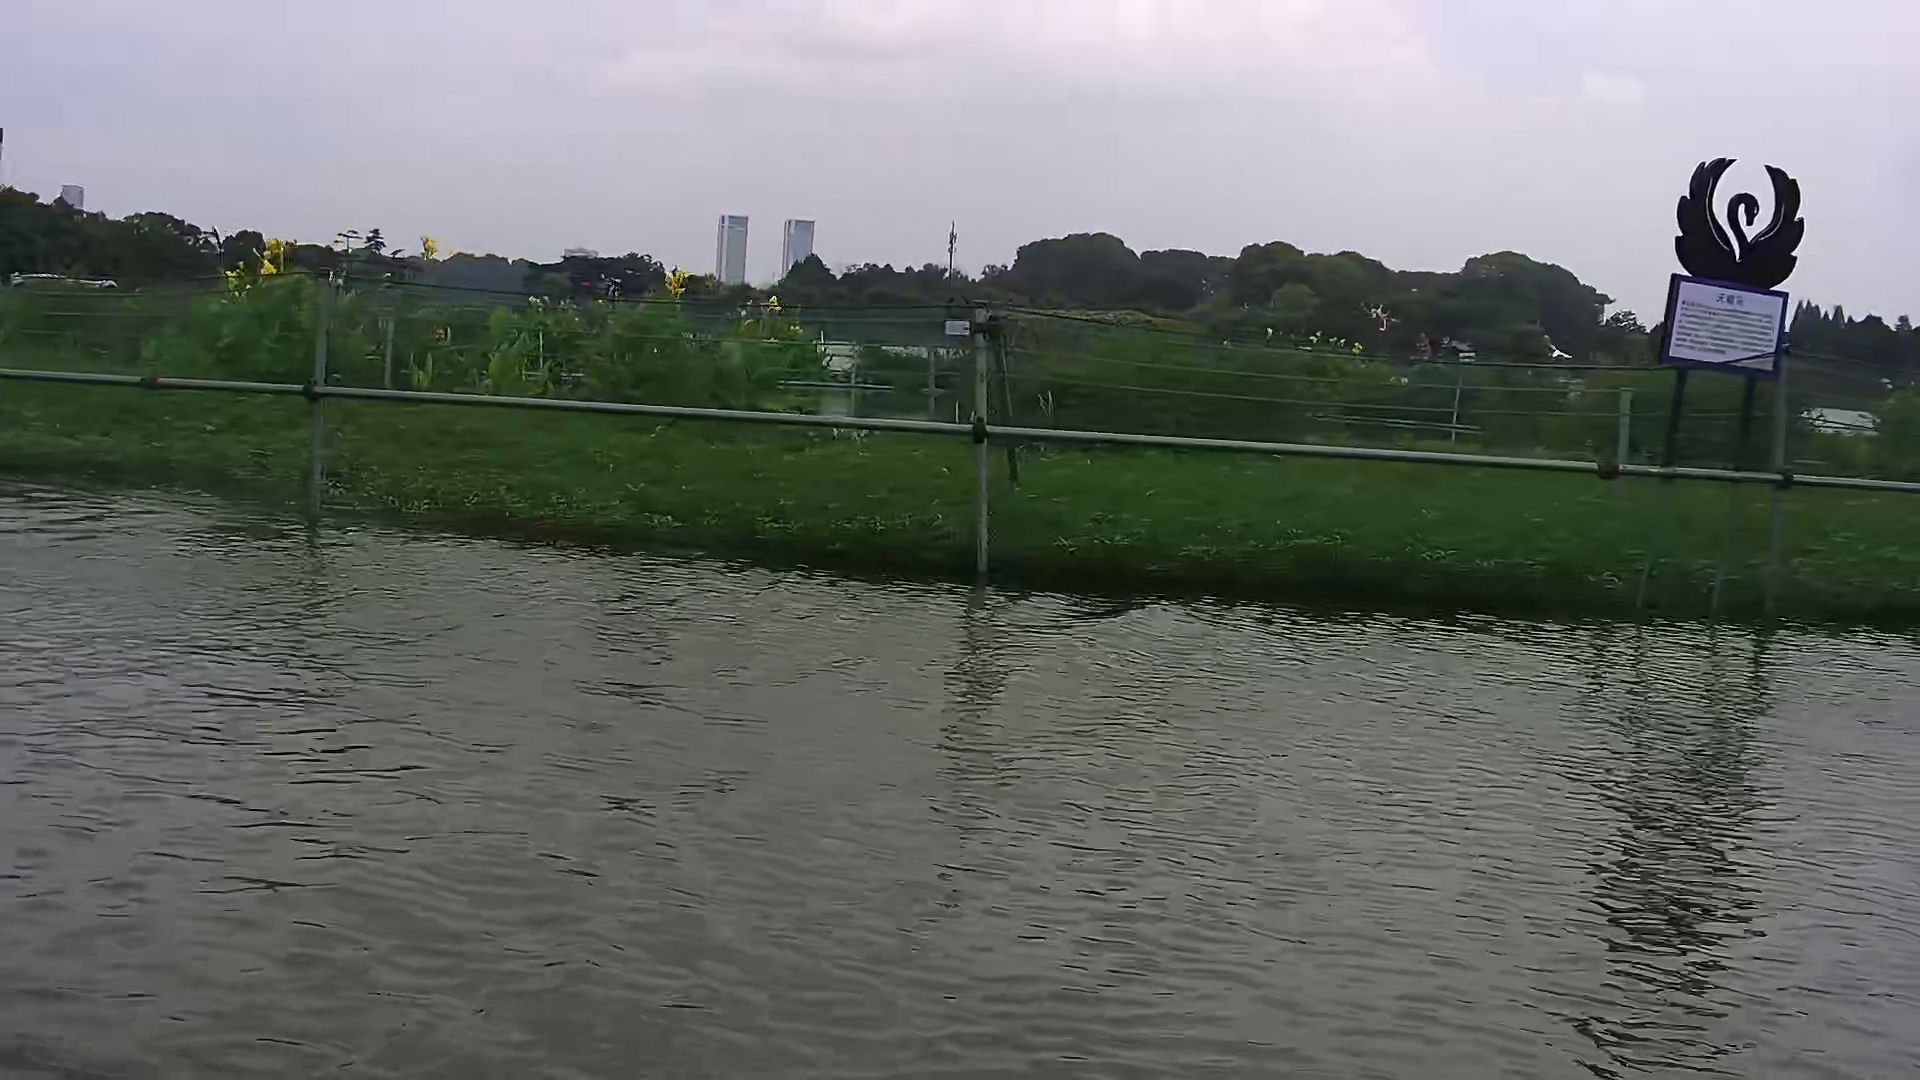grass: (16, 268, 1911, 646)
